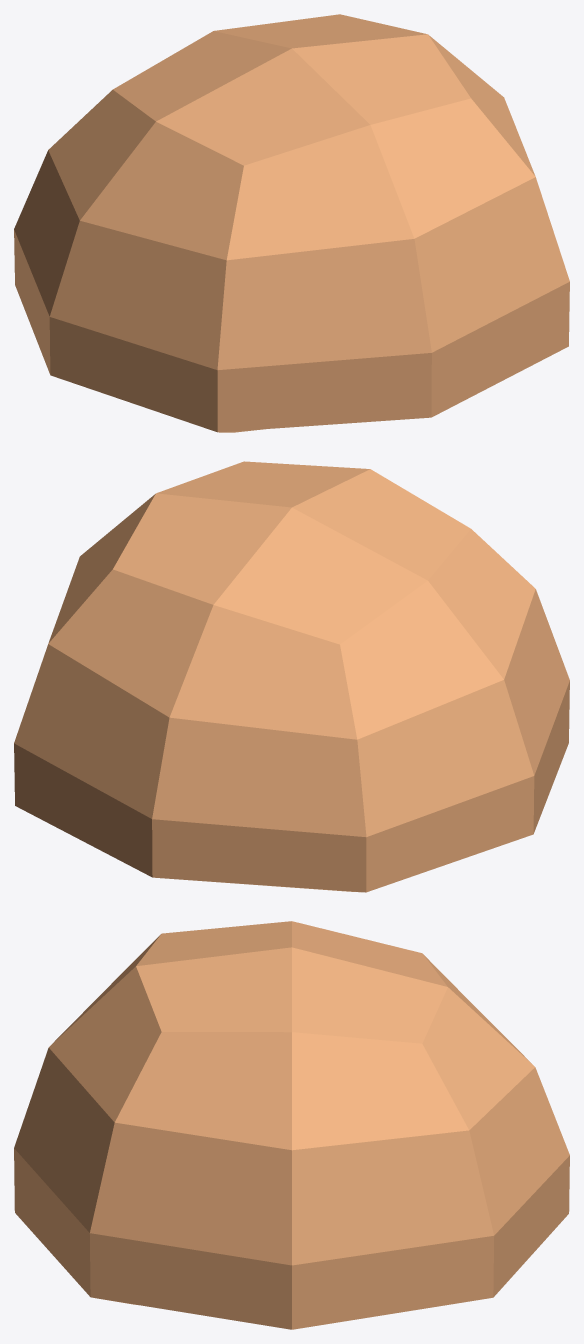
The model's file is rock_big.fbx.
3 renders of one model, top to bottom at view 1: azimuth 30°, elevation 25°; view 2: azimuth 150°, elevation 25°; view 3: azimuth 270°, elevation 25°, orthographic.
Visible parts, largest first — view 1: Cube.063; view 2: Cube.063; view 3: Cube.063.
Part boxes in pixels (box(x1,y1,x2,y2)): Cube.063: box(14, 14, 569, 432); Cube.063: box(14, 461, 569, 892); Cube.063: box(14, 921, 569, 1329).
Bounding box in the file's own units: 1.01 × 1.01 × 0.6076.
